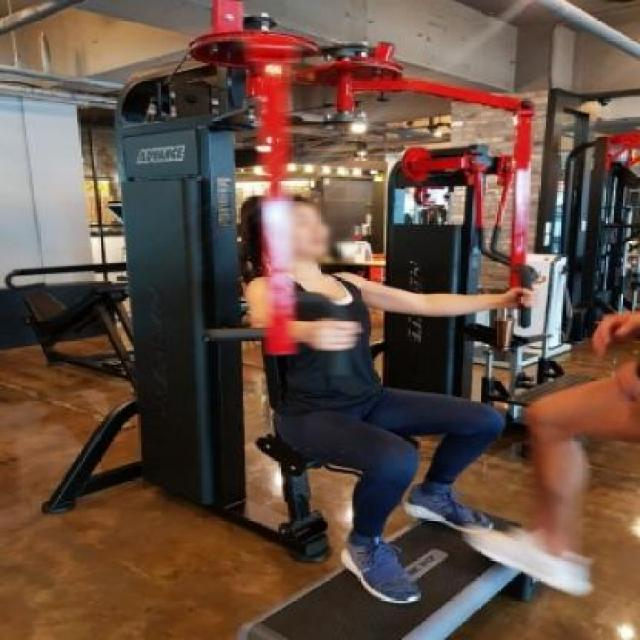chest fly machine: (33, 0, 564, 615)
